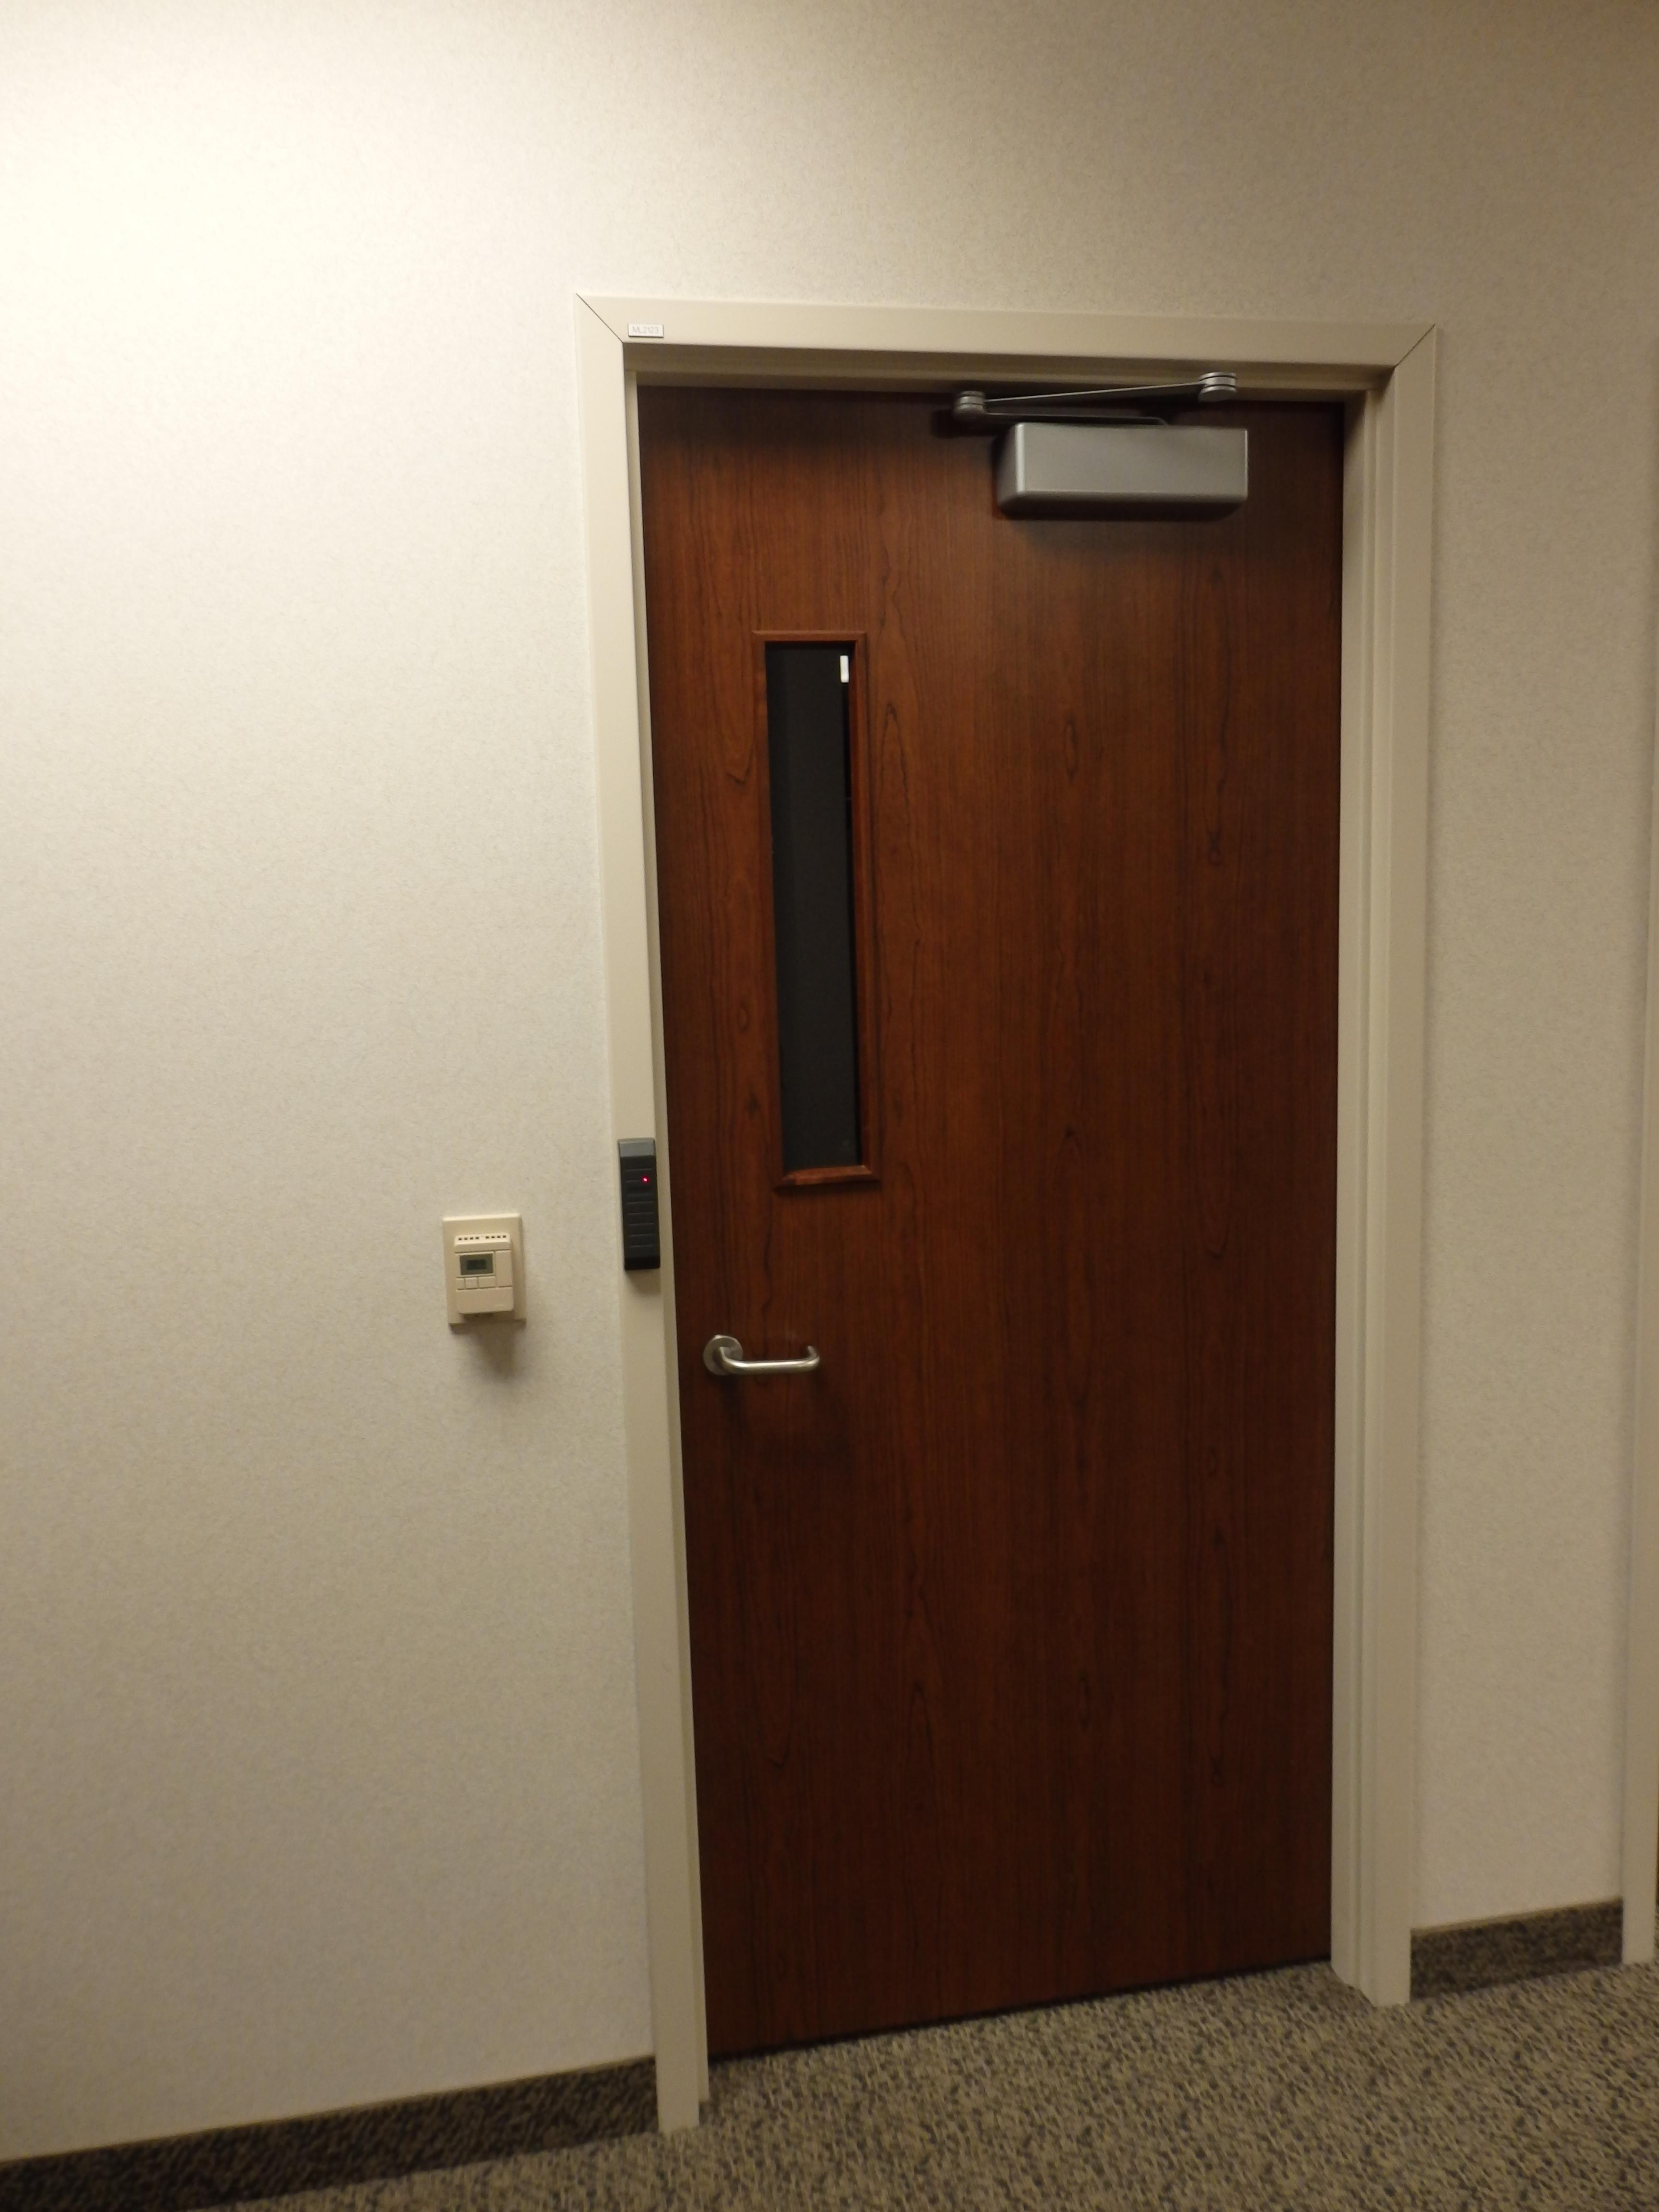door: (615, 354, 1363, 2038)
